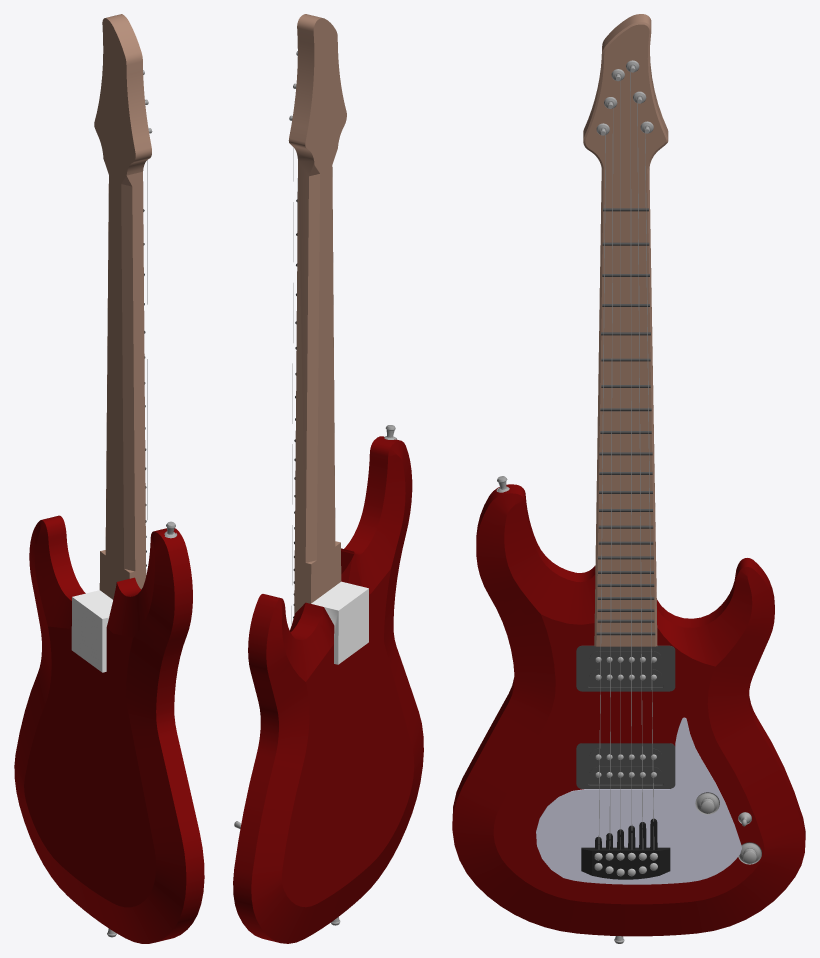
Rendered from Guitar.fbx.
The picture shows the model from 3 angles, left to right: view 1: azimuth 30°, elevation 25°; view 2: azimuth 150°, elevation 25°; view 3: azimuth 270°, elevation 25°; orthographic projection. The views are drawn at different scales.
Parts seen in each view (by area): view 1: Model; view 2: Model; view 3: Model, guitar_fret2, guitar_fret1.
Part boxes in pixels (box(x1,y1,x2,y2)): Model: box(14, 14, 204, 943); Model: box(233, 14, 423, 943); Model: box(452, 14, 805, 936); guitar_fret2: box(576, 645, 675, 691); guitar_fret1: box(576, 743, 675, 788).
Bounding box in the file's own units: 2.58 × 36.6 × 12.57.
